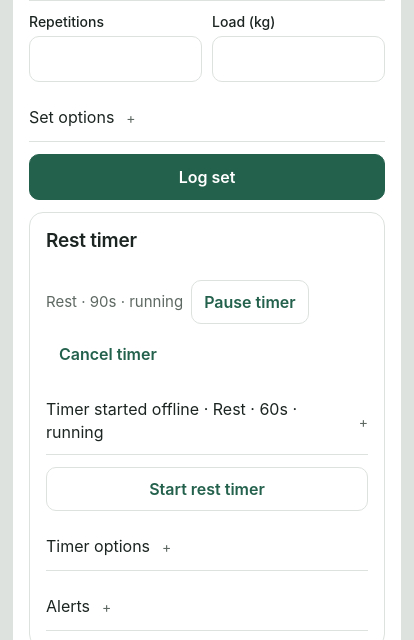
Test: timer display without timer mutations › restores an offline timer, elapsed=false, with discoverable retained status
(page scrolled)
expect the text "Rest · 90s · running" is shown: met, box [46,291,183,313]
Click the button "Timer started offline · Rest · 60s · running +" at x=207, y=422, box [46,388,368,455]
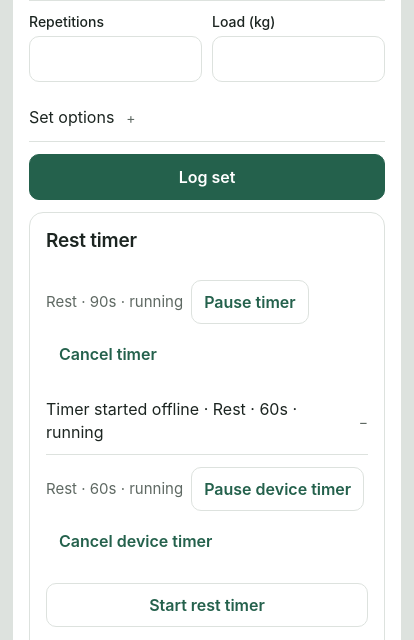
expect the button "Cancel device timer" is shown: met, box [46,519,225,563]
